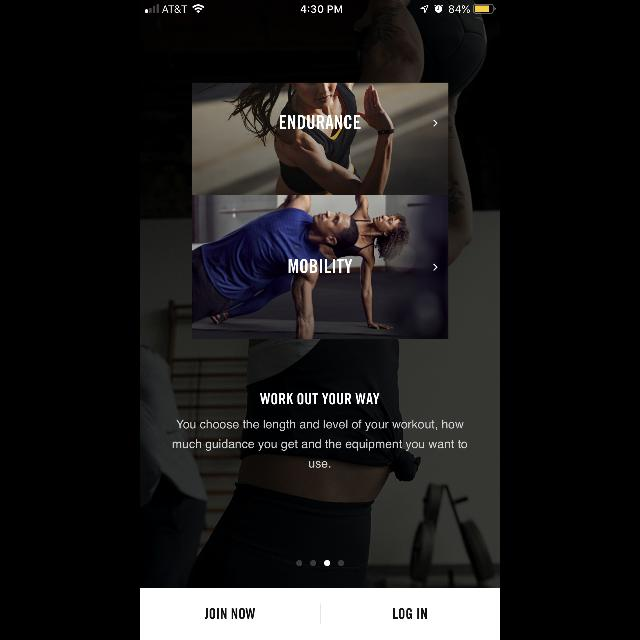image: (192, 83, 448, 339)
pageindicator: (296, 560, 344, 566)
text: (172, 420, 468, 468), (260, 393, 380, 405), (205, 608, 255, 618), (393, 608, 427, 620)
uppertaskbar: (140, 0, 500, 14)
